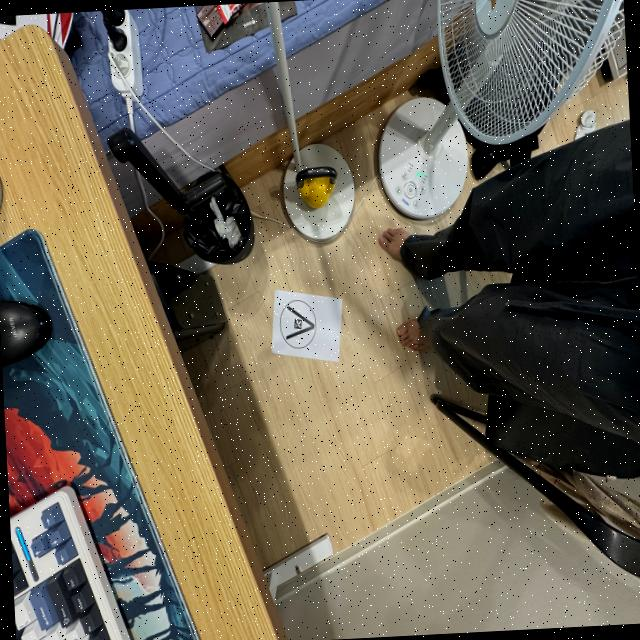ArUro mark: (278, 296, 320, 354)
